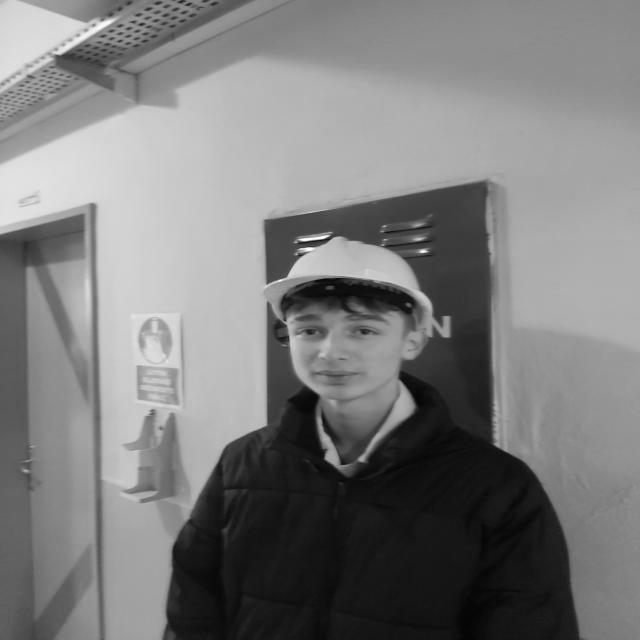construction helmet: (263, 239, 431, 333)
